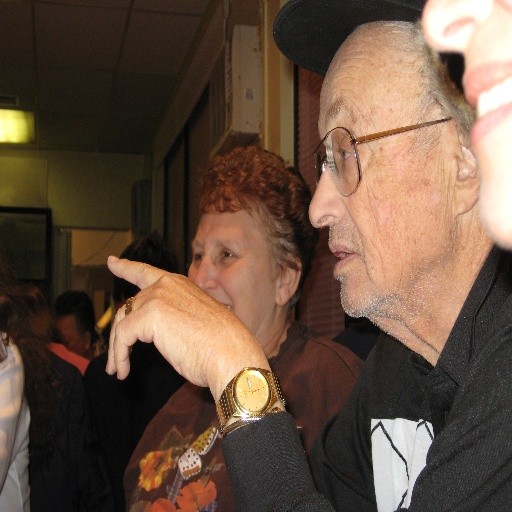hand: (104, 249, 265, 436)
